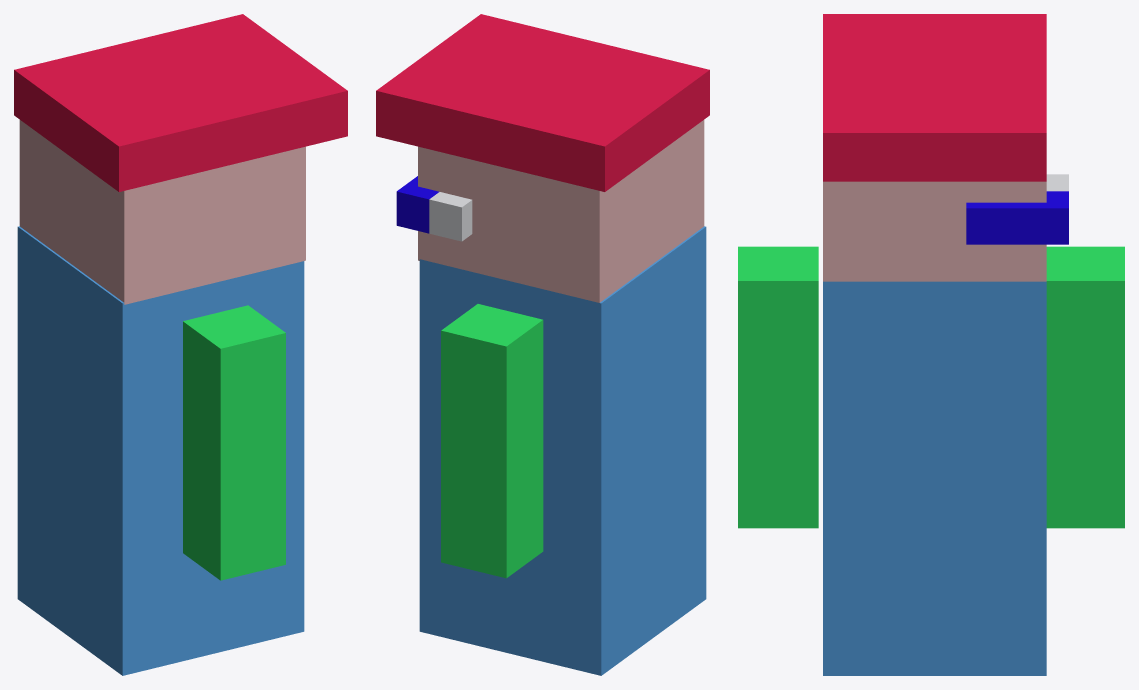
The model's file is Player.fbx.
3 views of the same model, side by side, from view 1: azimuth 30°, elevation 25°; view 2: azimuth 150°, elevation 25°; view 3: azimuth 270°, elevation 25° (orthographic). The views are drawn at different scales.
Parts seen in each view (by area): view 1: Body, Hat, Head, ArmRight; view 2: Body, Hat, Head, ArmLeft, Visor Piece, Visor; view 3: Body, Hat, ArmRight, ArmLeft, Head, Visor.
Boxes of the visible parts, bbox=[...] form: Body: bbox=[17, 226, 304, 675]; Hat: bbox=[14, 14, 347, 191]; Head: bbox=[19, 120, 305, 304]; ArmRight: bbox=[183, 305, 285, 580]; Body: bbox=[419, 226, 706, 675]; Hat: bbox=[376, 14, 709, 191]; Head: bbox=[418, 120, 704, 302]; ArmLeft: bbox=[441, 304, 543, 578]; Visor Piece: bbox=[429, 192, 472, 241]; Visor: bbox=[396, 176, 439, 233]; Body: bbox=[823, 281, 1046, 675]; Hat: bbox=[823, 14, 1046, 181]; ArmRight: bbox=[738, 246, 818, 528]; ArmLeft: bbox=[1046, 246, 1124, 528]; Head: bbox=[823, 181, 1046, 281]; Visor: bbox=[966, 191, 1068, 244].
Size of the model in its own units: 126 by 279 by 173.
